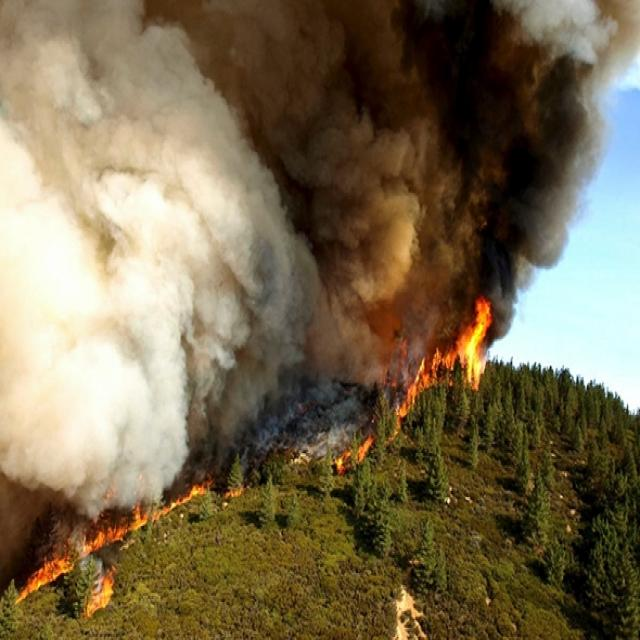Fire: (406, 299, 495, 406), (79, 500, 175, 559), (15, 555, 75, 605), (86, 567, 117, 620)
